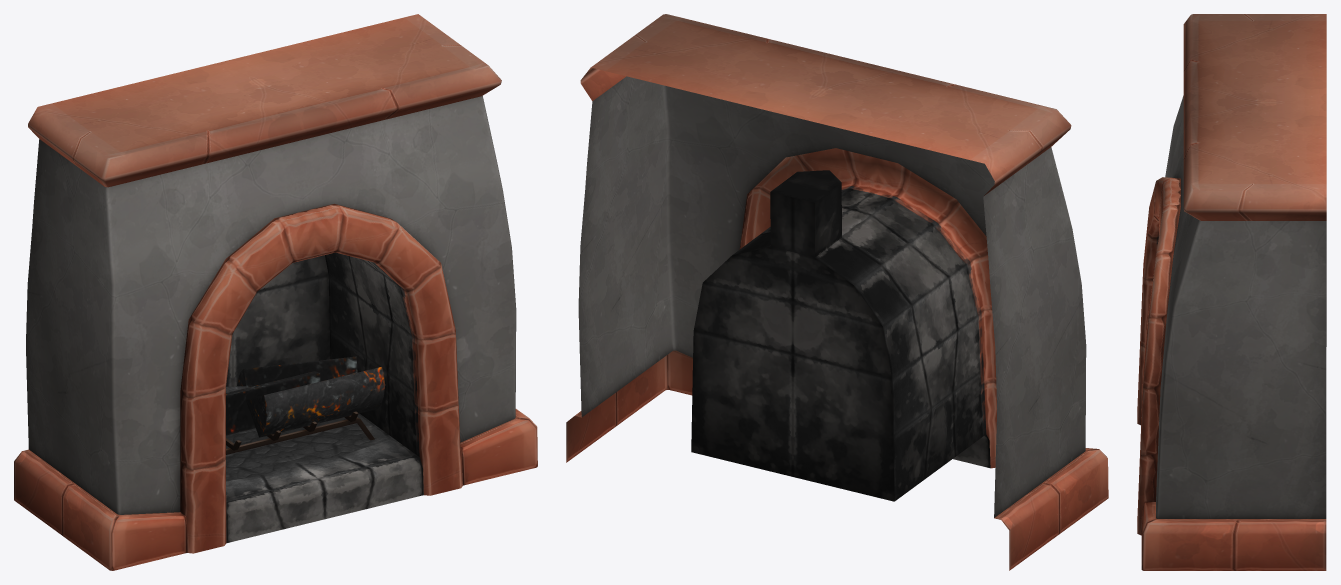
Rendered from FirePlace01_2.FBX.
The picture shows the model from 3 angles, left to right: view 1: azimuth 30°, elevation 25°; view 2: azimuth 150°, elevation 25°; view 3: azimuth 270°, elevation 25°; orthographic projection. The views are drawn at different scales.
Parts seen in each view (by area): view 1: FirePlace01_2; view 2: FirePlace01_2; view 3: FirePlace01_2.
Part boxes in pixels (left/top/right/bottom): FirePlace01_2: left=14, top=14, right=537, bottom=570; FirePlace01_2: left=566, top=14, right=1108, bottom=570; FirePlace01_2: left=1137, top=14, right=1326, bottom=570.
Size of what is drawn, in the model's own units: 1.42 by 1.23 by 0.5723.
